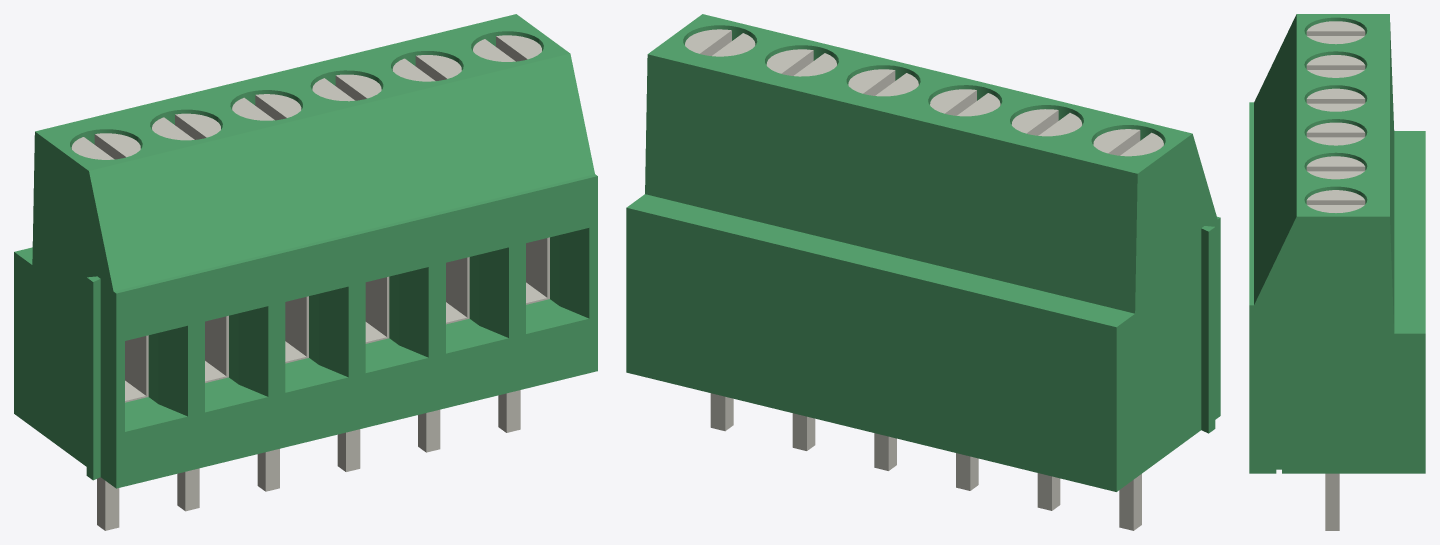
Rendered from kc-terminalblock_phoenix_mkds-3-6-5.08_1x06_p5.08mm_horizontal.glb.
3 views of the same model, side by side, from view 1: azimuth 30°, elevation 25°; view 2: azimuth 150°, elevation 25°; view 3: azimuth 270°, elevation 25° (orthographic). The views are drawn at different scales.
Parts seen in each view (by area): view 1: 0.08333333333333333_0.4166666666666667_0.16666666666666666_0, 0.6666666666666666_0.6666666666666666_0.5833333333333334_0.8; view 2: 0.08333333333333333_0.4166666666666667_0.16666666666666666_0, 0.6666666666666666_0.6666666666666666_0.5833333333333334_0.8; view 3: 0.08333333333333333_0.4166666666666667_0.16666666666666666_0, 0.6666666666666666_0.6666666666666666_0.5833333333333334_0.8.
Boxes of the visible parts, x1,y1,x2,y2 form: 0.08333333333333333_0.4166666666666667_0.16666666666666666_0: (14,14,597,488); 0.6666666666666666_0.6666666666666666_0.5833333333333334_0.8: (71,35,549,530); 0.08333333333333333_0.4166666666666667_0.16666666666666666_0: (626,14,1220,491); 0.6666666666666666_0.6666666666666666_0.5833333333333334_0.8: (685,29,1163,530); 0.08333333333333333_0.4166666666666667_0.16666666666666666_0: (1249,14,1425,473); 0.6666666666666666_0.6666666666666666_0.5833333333333334_0.8: (1306,21,1365,530).
Bounding box in the file's own units: 3.11 × 2.3 × 1.12.
